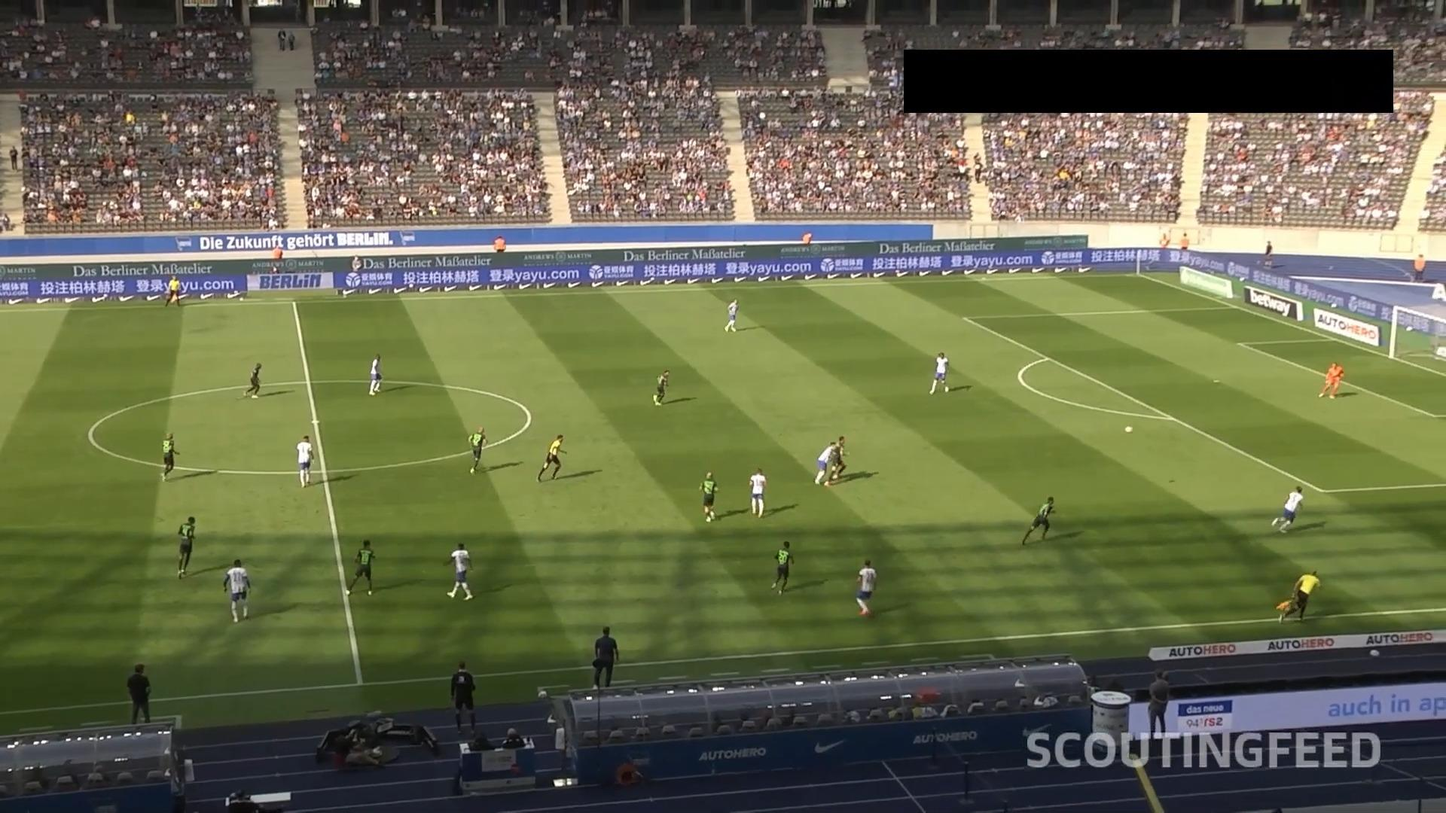ball: (1124, 425, 1133, 433)
goalkeeper: (1318, 362, 1344, 398)
player: (444, 543, 477, 601), (222, 560, 252, 622), (346, 538, 377, 596), (1271, 486, 1305, 538), (1022, 497, 1057, 545), (825, 434, 849, 488), (855, 561, 878, 616), (177, 516, 197, 579), (772, 541, 794, 594), (699, 472, 720, 523), (160, 433, 181, 483), (814, 440, 836, 485), (468, 425, 487, 476), (929, 353, 950, 396), (297, 435, 313, 488), (243, 361, 264, 399), (751, 468, 766, 518), (725, 297, 742, 332), (654, 370, 670, 407), (369, 355, 383, 397)
referee: (1278, 569, 1322, 627), (538, 433, 568, 484), (165, 274, 182, 306)
